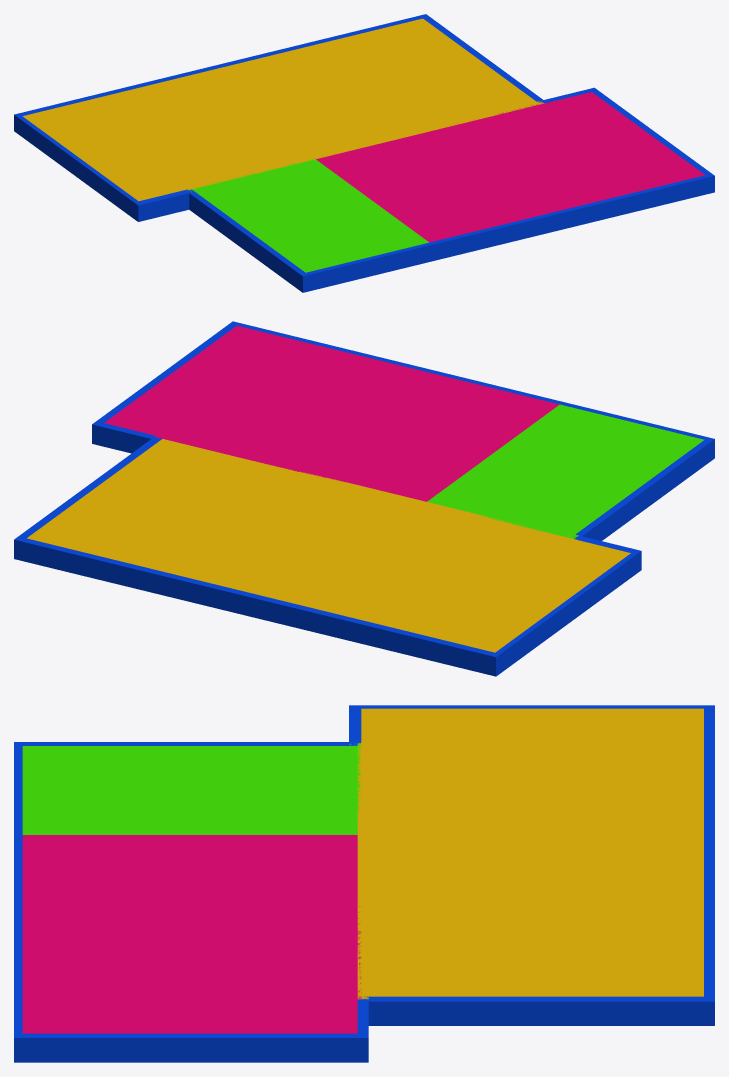
File: PlaneNew.fbx
The picture shows the model from 3 angles, top to bottom: view 1: azimuth 30°, elevation 25°; view 2: azimuth 150°, elevation 25°; view 3: azimuth 270°, elevation 25°; orthographic projection. The views are drawn at different scales.
Visible parts, largest first — view 1: Cube.101; view 2: Cube.101; view 3: Cube.101.
Part boxes in pixels (x1,y1,x2,y2): Cube.101: [14, 14, 714, 292]; Cube.101: [14, 321, 714, 676]; Cube.101: [14, 705, 714, 1062].
Bounding box in the file's own units: 1820 × 62.36 × 1620.
